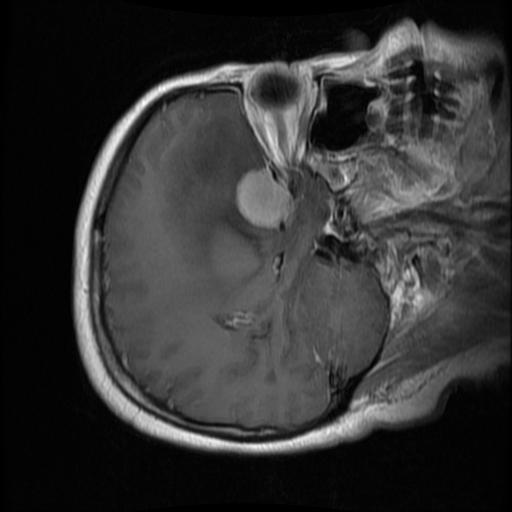meningioma: (234, 166, 294, 227)
